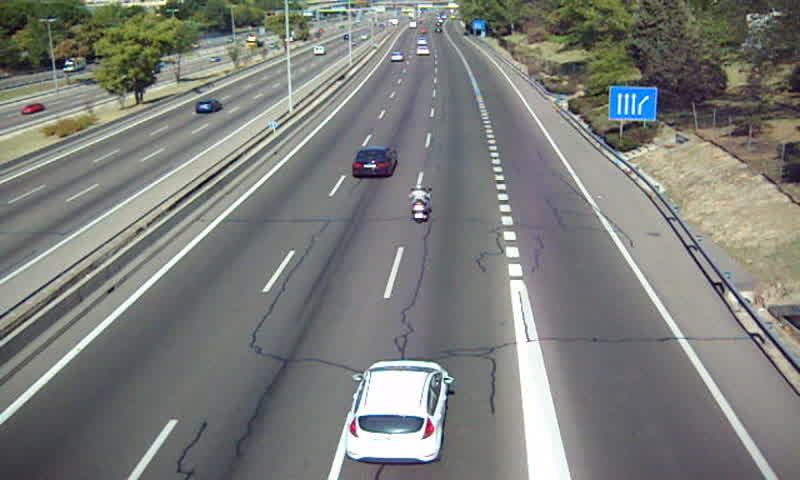car: (345, 361, 448, 461), (353, 147, 398, 176)
motorcycle: (408, 183, 433, 224)
